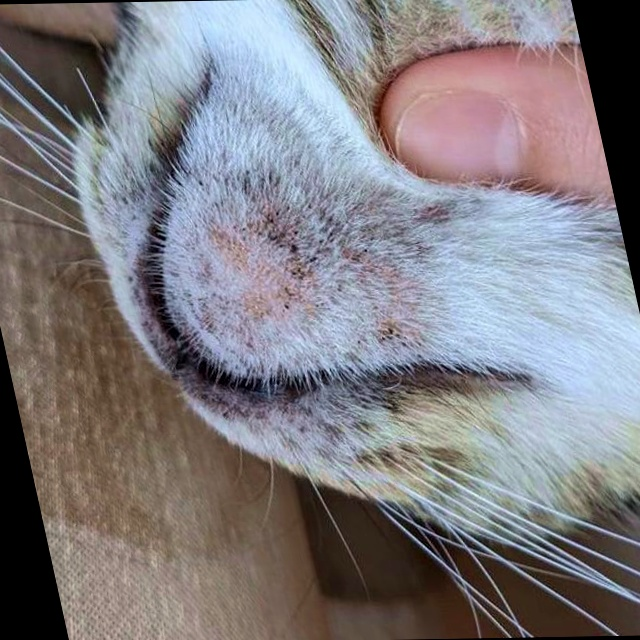acne: (180, 161, 452, 359)
